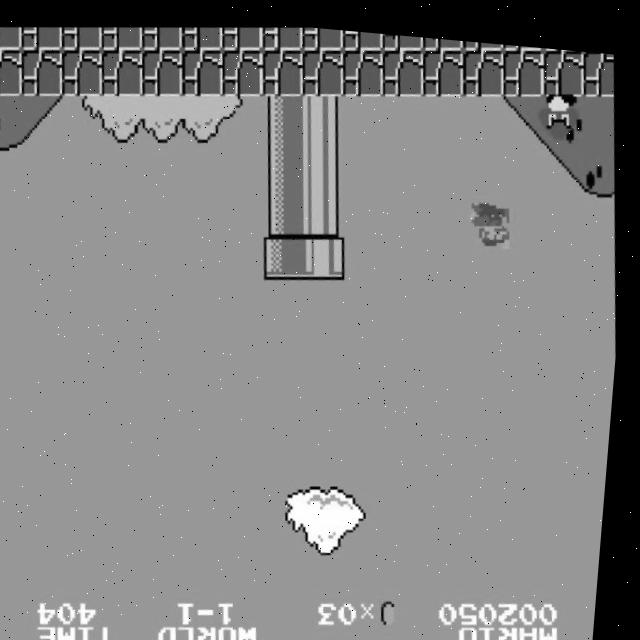11- little_mario: (468, 190, 518, 245)
14- pipe: (301, 132, 349, 184), (300, 87, 348, 139), (261, 133, 309, 185), (260, 87, 308, 139), (302, 179, 350, 230), (262, 180, 310, 231)
15- pipe_head: (303, 224, 352, 276), (263, 225, 311, 277)
17- undestructible_block: (98, 44, 147, 96), (259, 41, 307, 94), (499, 37, 547, 89), (460, 38, 508, 90), (419, 39, 467, 91), (379, 39, 427, 91), (339, 40, 387, 92), (299, 41, 347, 93), (219, 42, 267, 94), (179, 43, 227, 95), (139, 44, 187, 96), (59, 45, 107, 97), (19, 46, 67, 98), (539, 38, 587, 88), (580, 41, 617, 87), (0, 47, 26, 98), (220, 20, 265, 49), (180, 20, 225, 49), (100, 22, 145, 51), (19, 23, 64, 52), (260, 19, 304, 48), (140, 21, 184, 50), (60, 22, 104, 51), (300, 21, 344, 47), (340, 24, 384, 46), (380, 27, 424, 46), (420, 29, 464, 44), (0, 25, 23, 53), (460, 32, 504, 44)
8- goomba: (535, 79, 586, 135)
